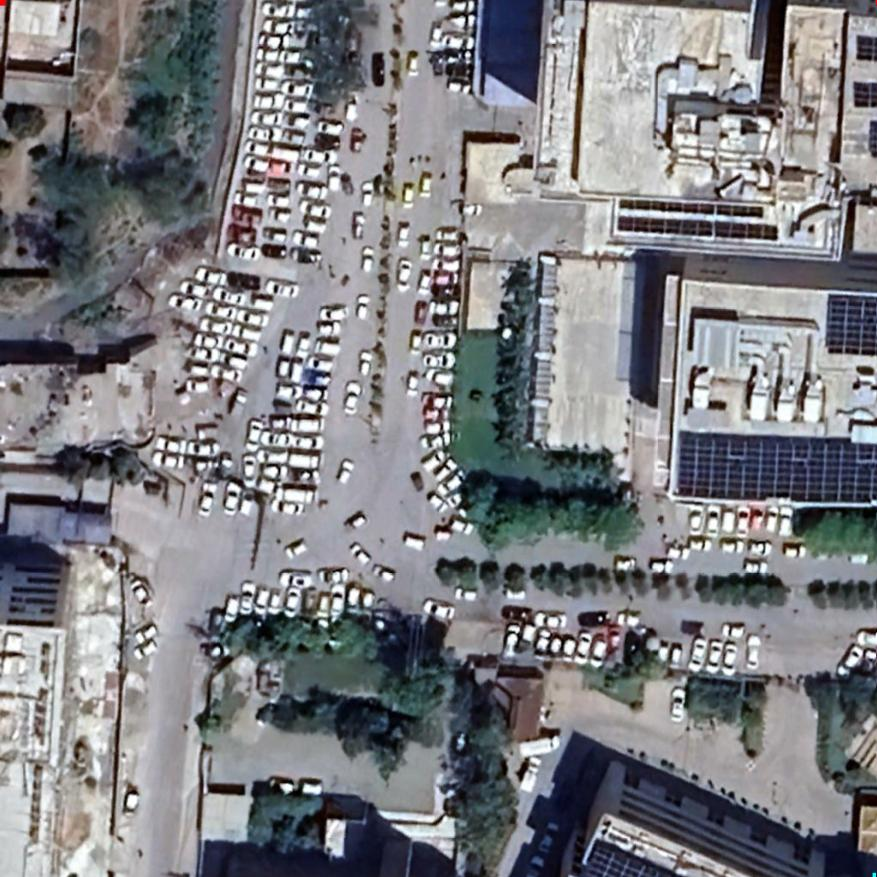Solarpanel: (676, 428, 876, 507), (610, 213, 782, 243), (578, 836, 687, 876), (822, 296, 876, 355), (617, 196, 768, 216), (850, 77, 876, 109), (856, 33, 876, 62)
